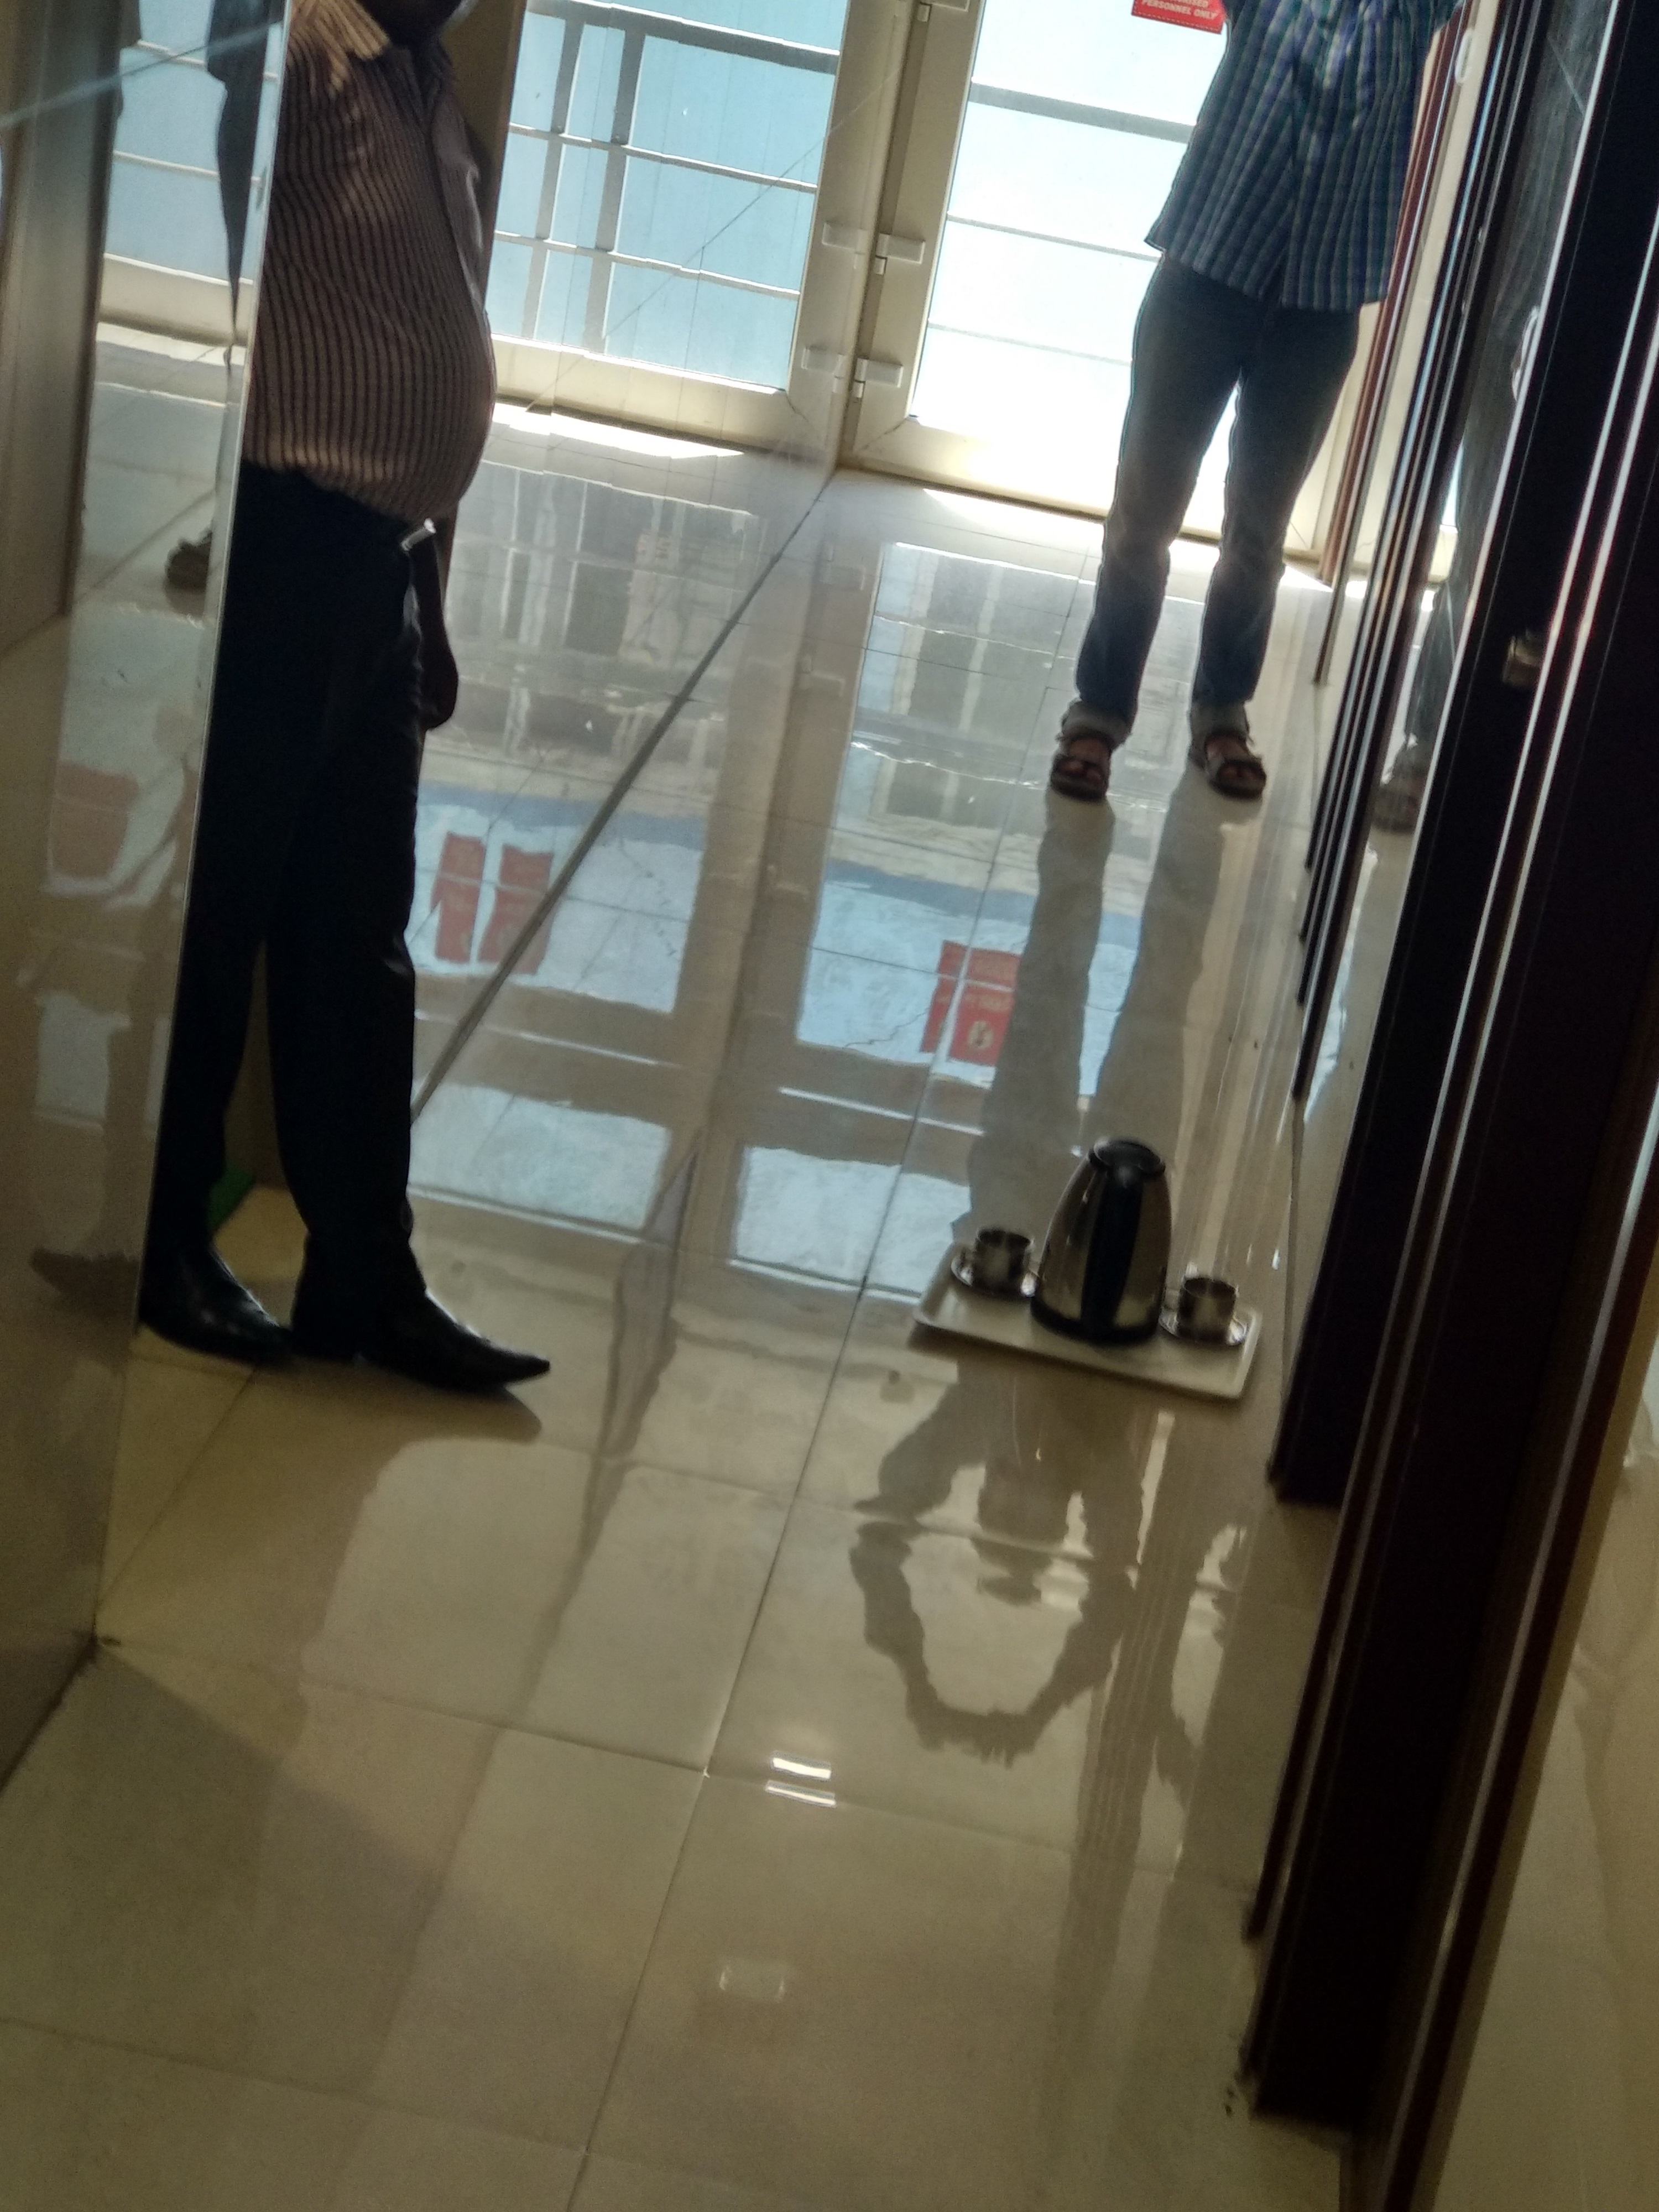CUP: (962, 1223, 1037, 1299), (1180, 1268, 1239, 1341)
JUG: (1060, 1139, 1168, 1348)
